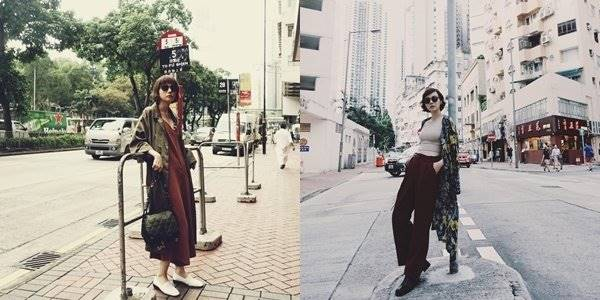people: (131, 75, 205, 296), (394, 90, 457, 294), (540, 143, 552, 172), (552, 144, 562, 172)
